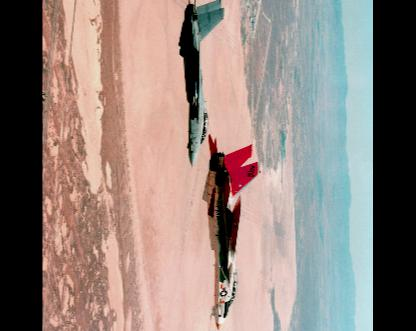EF2000: (203, 134, 263, 330), (178, 0, 225, 169)
